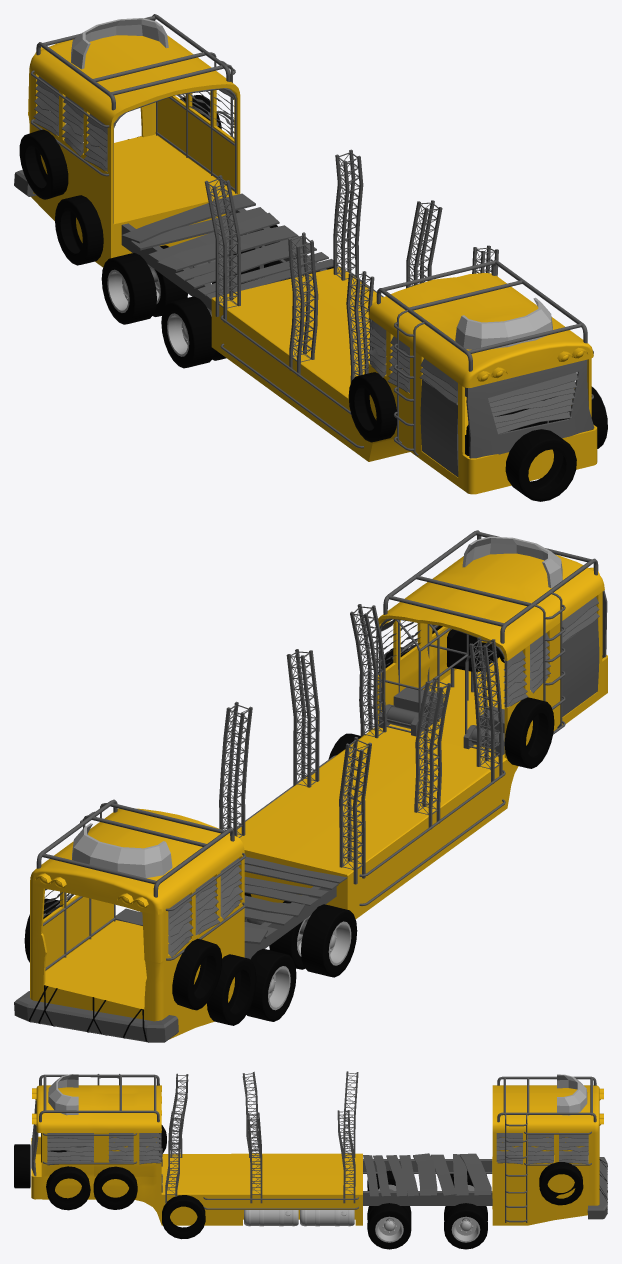
File: BusFinal.fbx
3 views of the same model, one above another, from view 1: azimuth 30°, elevation 25°; view 2: azimuth 150°, elevation 25°; view 3: azimuth 270°, elevation 25° (orthographic). The views are drawn at different scales.
Parts seen in each view (by area): view 1: BusFront, BusBack, polySurface332 (×3), polySurface26, polySurface410, Blind4, Post6, Post4, Post3, polySurface279, polySurface416, polySurface417 (+24 smaller); view 2: BusFront, BusBack, polySurface332 (×3), pCube72, Post4, Post2, Post6, Post5, Post1, Post3, pSphere1, polySurface417 (+22 smaller); view 3: BusFront, BusBack, IBeams1, polySurface332 (×2), Blind1, polySurface413, polySurface412, polySurface361 (×2), polySurface414, Decoration_Wheel, polySurface415, pSphere1 (+30 smaller).
Part boxes in pixels (x1,y1,x2,y2): BusFront: (211, 267, 597, 494); BusBack: (28, 35, 240, 267); polySurface332 (×3): (101, 224, 396, 442); polySurface26: (466, 359, 594, 458); polySurface410: (505, 429, 576, 501); Blind4: (488, 372, 578, 434); Post6: (204, 175, 240, 322); Post4: (288, 232, 318, 376); Post3: (333, 149, 363, 280); polySurface279: (420, 379, 458, 477); polySurface416: (55, 195, 103, 265); polySurface417: (19, 129, 68, 199); BusFront: (237, 553, 607, 918); BusBack: (30, 808, 244, 1039); polySurface332 (×3): (244, 697, 554, 1021); pCube72: (14, 991, 178, 1042); Post4: (414, 677, 451, 829); Post2: (286, 649, 319, 787); Post6: (339, 737, 371, 884); Post5: (469, 637, 502, 783); Post1: (350, 604, 386, 738); Post3: (219, 701, 252, 837); pSphere1: (72, 823, 172, 878); polySurface417: (172, 938, 221, 1010); BusFront: (31, 1085, 362, 1225); BusBack: (492, 1085, 603, 1225); IBeams1: (363, 1159, 492, 1205); polySurface332 (×2): (367, 1170, 487, 1249); Blind1: (47, 1133, 93, 1165); polySurface413: (93, 1166, 137, 1209); polySurface412: (46, 1166, 90, 1210); polySurface361 (×2): (375, 1216, 480, 1242); polySurface414: (162, 1195, 205, 1239); Decoration_Wheel: (367, 1174, 411, 1249); polySurface415: (539, 1162, 583, 1205); pSphere1: (557, 1074, 587, 1115).
Size of the model in its own units: 9.5 by 11.56 by 44.59.
